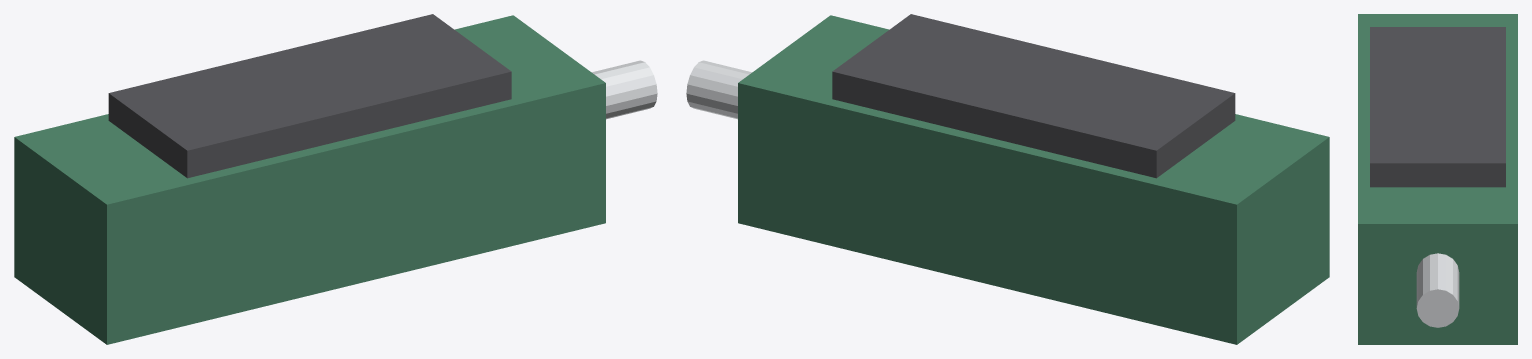
Rendered from tt-motor-148.glb.
3 views of the same model, side by side, from view 1: azimuth 30°, elevation 25°; view 2: azimuth 150°, elevation 25°; view 3: azimuth 270°, elevation 25° (orthographic). The views are drawn at different scales.
Visible parts, largest first — view 1: tt-motor-148-pcb, tt-motor-148-plastic, tt-motor-148-metal; view 2: tt-motor-148-pcb, tt-motor-148-plastic, tt-motor-148-metal; view 3: tt-motor-148-pcb, tt-motor-148-plastic, tt-motor-148-metal.
Boxes of the visible parts, bbox=[...] form: tt-motor-148-pcb: bbox=[14, 15, 605, 344]; tt-motor-148-plastic: bbox=[108, 14, 511, 178]; tt-motor-148-metal: bbox=[592, 60, 657, 119]; tt-motor-148-pcb: bbox=[738, 15, 1329, 344]; tt-motor-148-plastic: bbox=[832, 14, 1235, 178]; tt-motor-148-metal: bbox=[686, 60, 751, 119]; tt-motor-148-pcb: bbox=[1358, 14, 1517, 344]; tt-motor-148-plastic: bbox=[1370, 27, 1505, 187]; tt-motor-148-metal: bbox=[1416, 253, 1459, 327].
Size of the model in its own units: 0.082 by 0.0225 by 0.0225.
